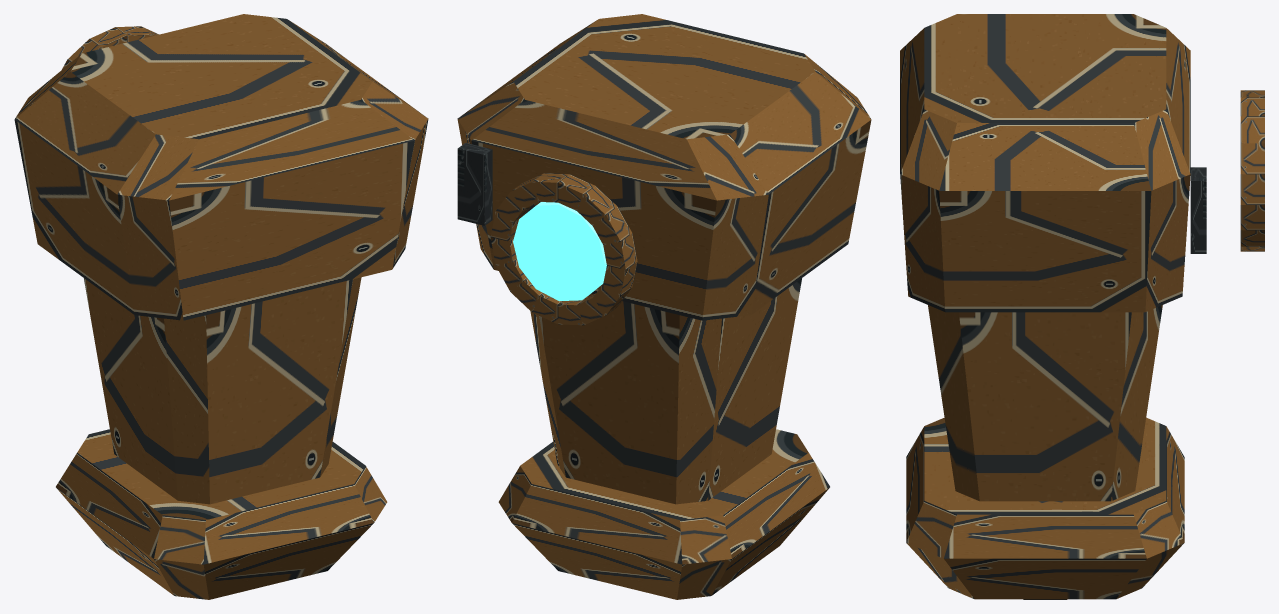
Rendered from camera.glb.
3 renders of one model, left to right at view 1: azimuth 30°, elevation 25°; view 2: azimuth 150°, elevation 25°; view 3: azimuth 270°, elevation 25°, orthographic. The views are drawn at different scales.
Parts seen in each view (by area): view 1: STProp_camera_HeadMesh, STProp_camera_Body; view 2: STProp_camera_HeadMesh, STProp_camera_Body; view 3: STProp_camera_HeadMesh, STProp_camera_Body.
Boxes of the visible parts, <box> form: STProp_camera_HeadMesh: <box>14,14,428,320</box>; STProp_camera_Body: <box>56,277,387,599</box>; STProp_camera_HeadMesh: <box>457,14,871,325</box>; STProp_camera_Body: <box>498,278,829,599</box>; STProp_camera_HeadMesh: <box>900,14,1264,312</box>; STProp_camera_Body: <box>906,305,1184,599</box>.
Size of the model in its own units: 0.46 by 0.71 by 0.452.
Materials: 4 (3 with a texture image).
